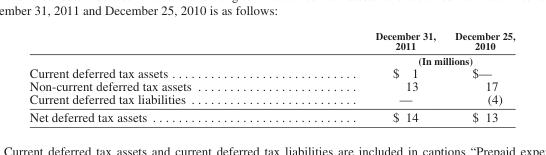table: (28, 28, 514, 124)
table column: (28, 28, 282, 124), (282, 28, 444, 124), (444, 28, 514, 124)
table column header: (28, 28, 514, 66)
table row: (28, 28, 514, 52), (28, 107, 514, 124), (28, 92, 514, 107), (28, 52, 514, 66), (28, 66, 514, 79), (28, 79, 514, 92)
table spanning cell: (282, 52, 514, 66)
